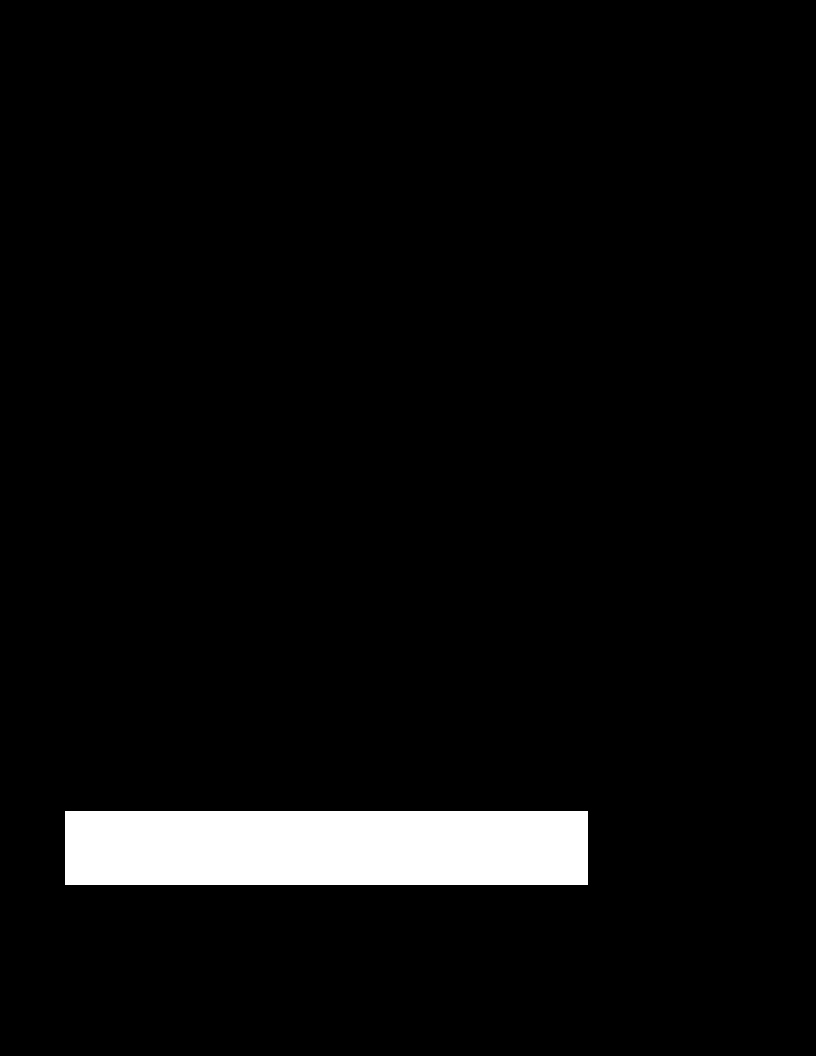table: (65, 811, 587, 884)
